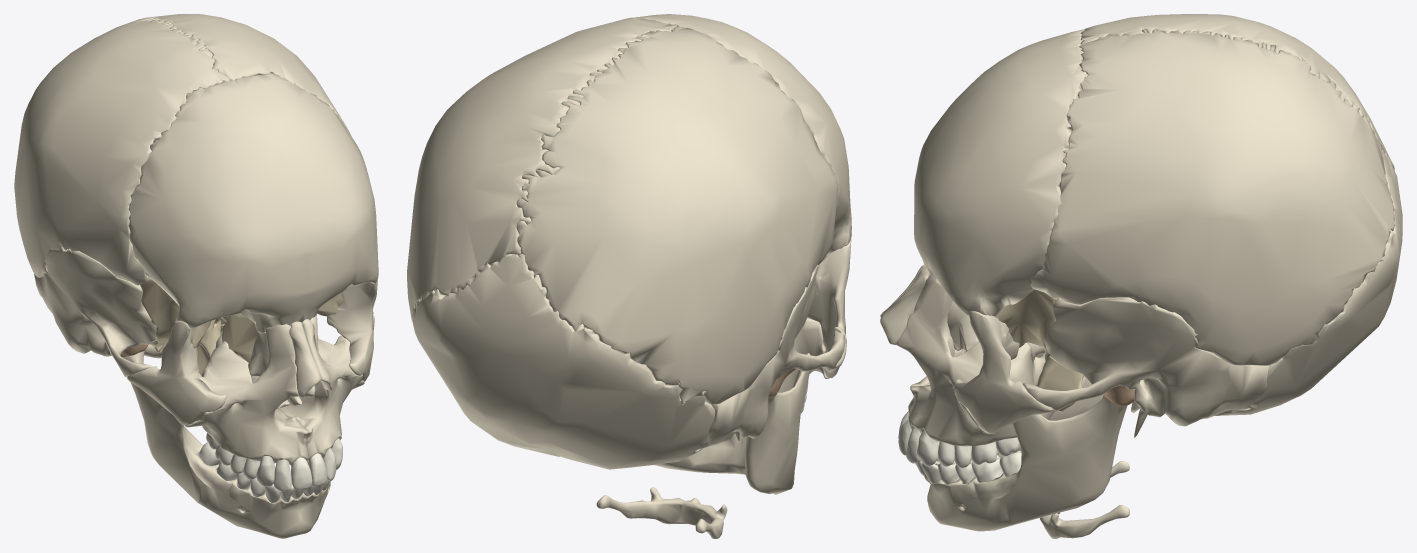
Rendered from zanatomy-skull.glb.
The picture shows the model from 3 angles, left to right: view 1: azimuth 30°, elevation 25°; view 2: azimuth 150°, elevation 25°; view 3: azimuth 270°, elevation 25°; orthographic projection. The views are drawn at different scales.
Parts seen in each view (by area): view 1: za_frontal_1, za_parietal_2, za_maxilla_2, za_temporal_2, za_mandible_1, za_parietal_1, za_zygomatic_2, za_maxilla_1, za_sphenoid_1, za_zygomatic_1, za_nasal_2, za_ethmoid_1 (+6 smaller); view 2: za_parietal_2, za_occipital_1, za_parietal_1, za_frontal_1, za_mandible_1, za_temporal_2, za_zygomatic_2, za_hyoid_1, za_maxilla_2; view 3: za_parietal_1, za_frontal_1, za_temporal_1, za_mandible_1, za_maxilla_1, za_occipital_1, za_parietal_2, za_zygomatic_1, za_sphenoid_1, za_hyoid_1, za_nasal_1, za_lacrimal_bone_1.
Part boxes in pixels (left/top/right/bottom): za_frontal_1: left=128, top=73, right=378, bottom=333; za_parietal_2: left=14, top=17, right=229, bottom=285; za_maxilla_2: left=185, top=324, right=308, bottom=465; za_temporal_2: left=34, top=247, right=157, bottom=377; za_mandible_1: left=122, top=313, right=330, bottom=538; za_parietal_1: left=141, top=14, right=352, bottom=138; za_zygomatic_2: left=127, top=321, right=226, bottom=425; za_maxilla_1: left=278, top=315, right=364, bottom=460; za_sphenoid_1: left=140, top=277, right=343, bottom=375; za_zygomatic_1: left=326, top=279, right=377, bottom=381; za_nasal_2: left=289, top=321, right=320, bottom=397; za_ethmoid_1: left=221, top=313, right=265, bottom=362; za_parietal_2: left=516, top=26, right=838, bottom=404; za_occipital_1: left=412, top=254, right=715, bottom=469; za_parietal_1: left=407, top=17, right=676, bottom=322; za_frontal_1: left=635, top=14, right=851, bottom=253; za_mandible_1: left=654, top=353, right=810, bottom=494; za_temporal_2: left=699, top=263, right=845, bottom=449; za_zygomatic_2: left=807, top=239, right=851, bottom=378; za_hyoid_1: left=596, top=487, right=727, bottom=538; za_maxilla_2: left=778, top=318, right=829, bottom=392; za_parietal_1: left=1030, top=29, right=1395, bottom=365; za_frontal_1: left=914, top=29, right=1087, bottom=316; za_temporal_1: left=1022, top=297, right=1269, bottom=437; za_mandible_1: left=924, top=376, right=1127, bottom=531; za_maxilla_1: left=896, top=275, right=1034, bottom=446; za_occipital_1: left=1215, top=149, right=1402, bottom=415; za_parietal_2: left=1071, top=14, right=1394, bottom=169; za_zygomatic_1: left=953, top=311, right=1053, bottom=433; za_sphenoid_1: left=995, top=289, right=1083, bottom=411; za_hyoid_1: left=1039, top=461, right=1129, bottom=538; za_nasal_1: left=880, top=267, right=929, bottom=344; za_lacrimal_bone_1: left=947, top=301, right=978, bottom=351.
Size of the model in its own units: 0.1487 by 0.2139 by 0.2036.
